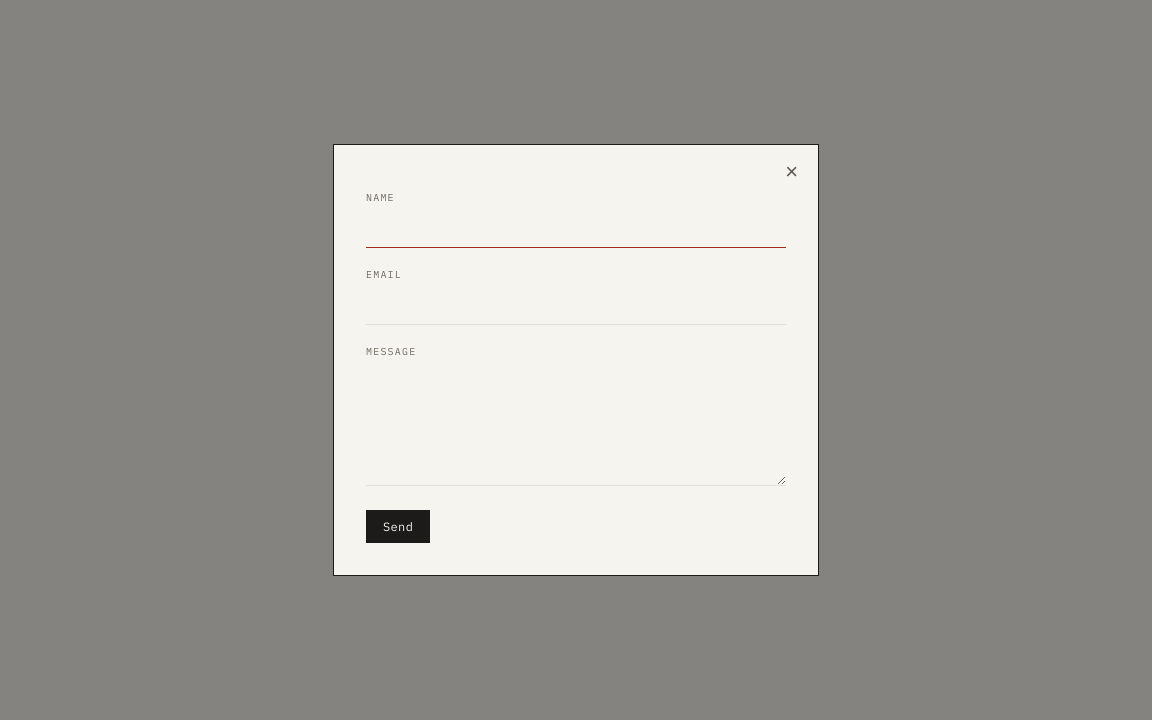
Test: ContactForm › submits the form and shows a success message
The width and height of the screenshot is (1152, 720).
Type "Jane" into the field labelled "Name" at (576, 229), box [366, 210, 786, 248]
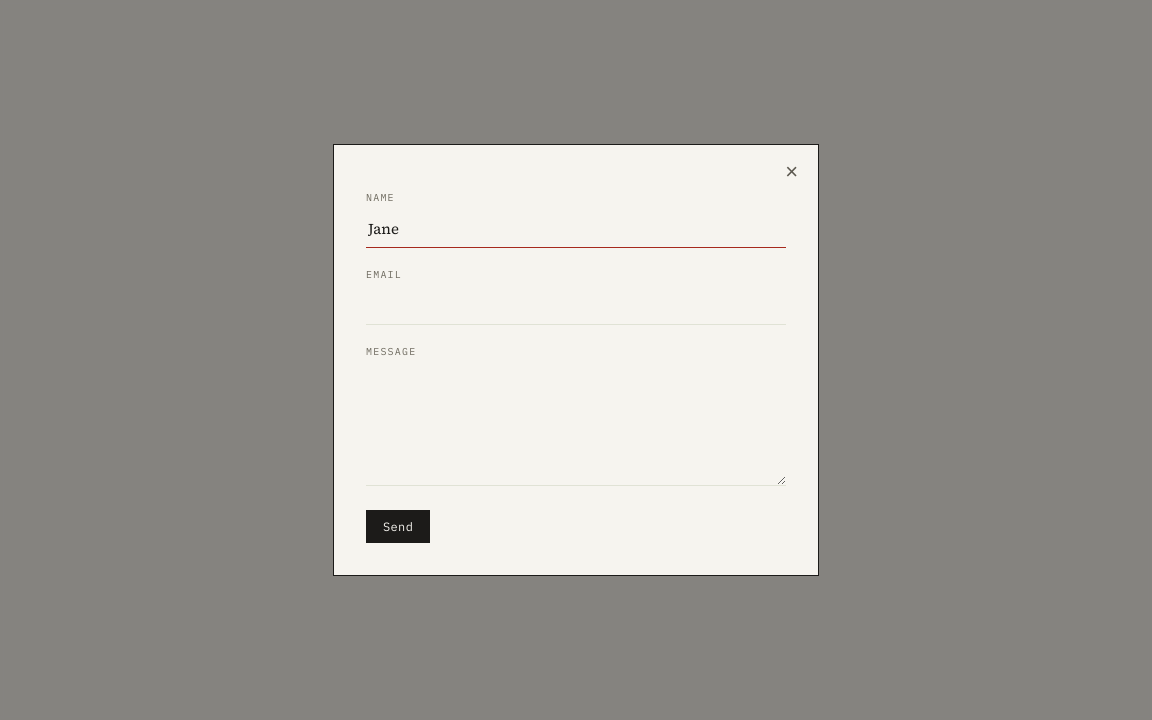
Type "jane@example.com" into the field labelled "Email" at (576, 306), box [366, 287, 786, 325]
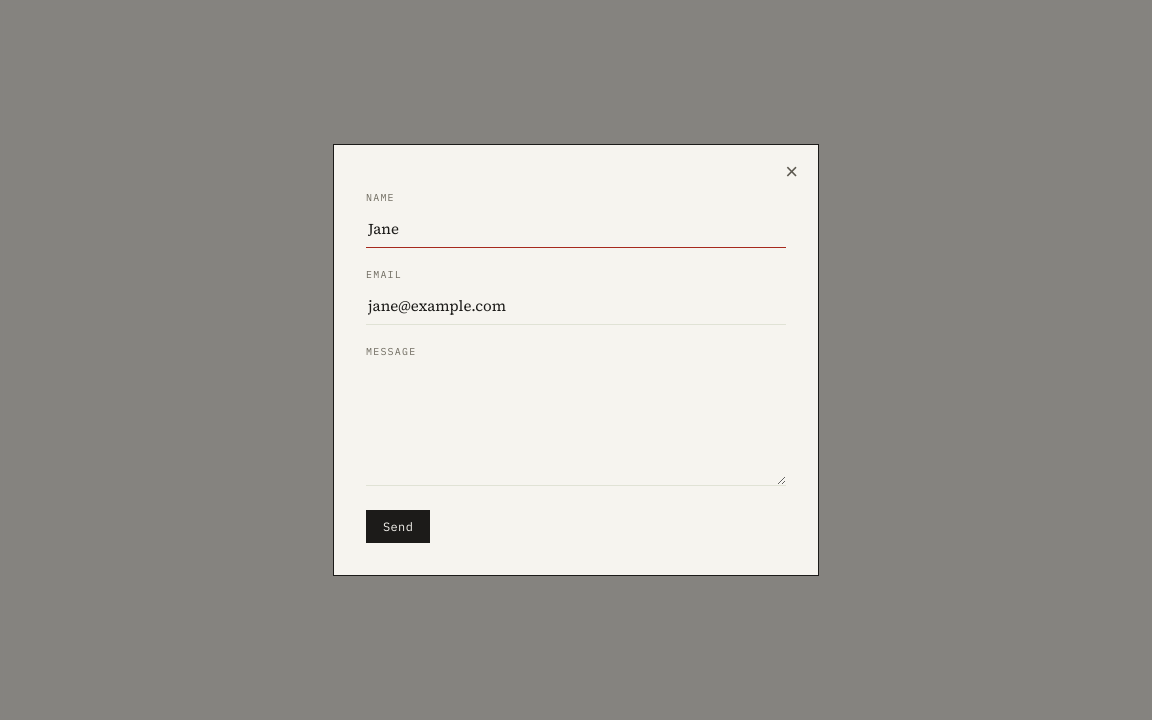
Type "Hello there" into the text box labelled "Message" at (576, 425), box [366, 364, 786, 486]
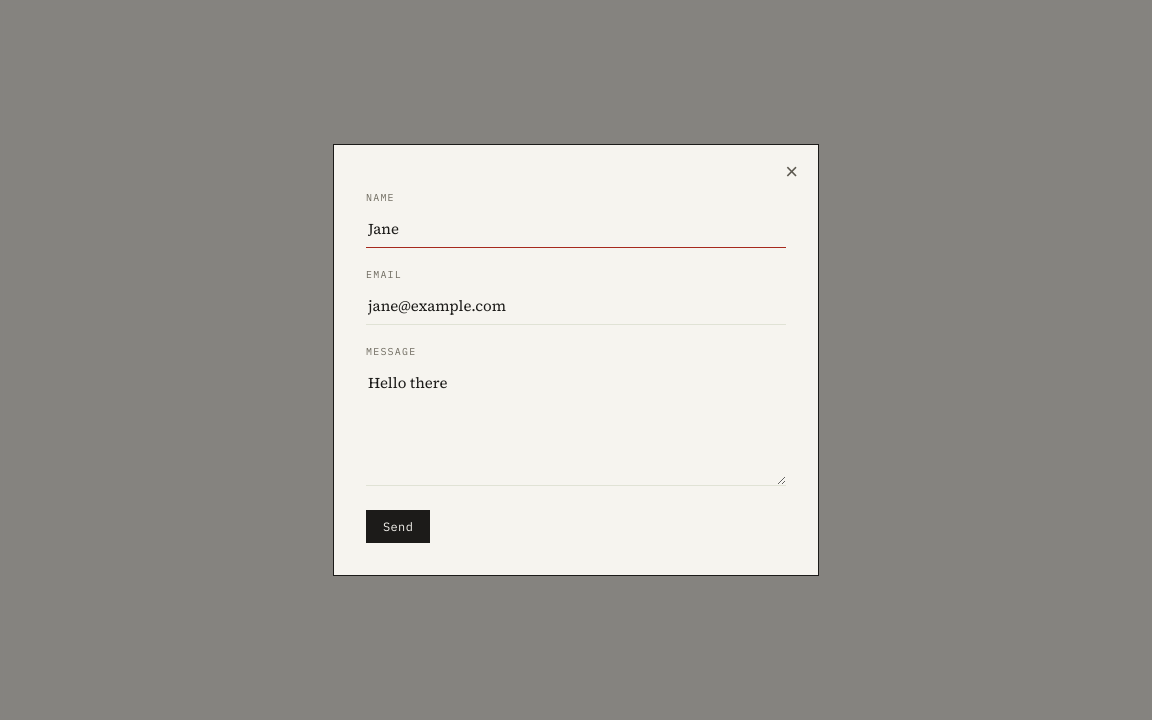
Click the button "Send" at (398, 526), box [366, 510, 430, 543]
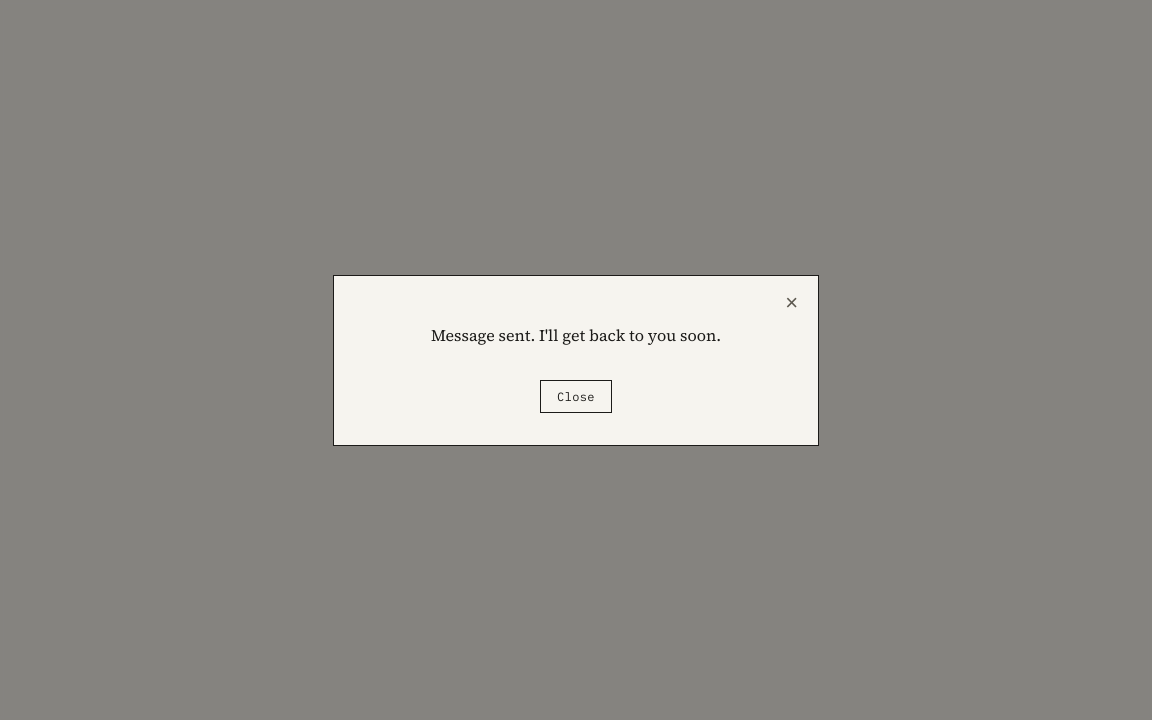
Now the text "Message sent. I'll get back to you soon." is shown, box [431, 324, 721, 346]
